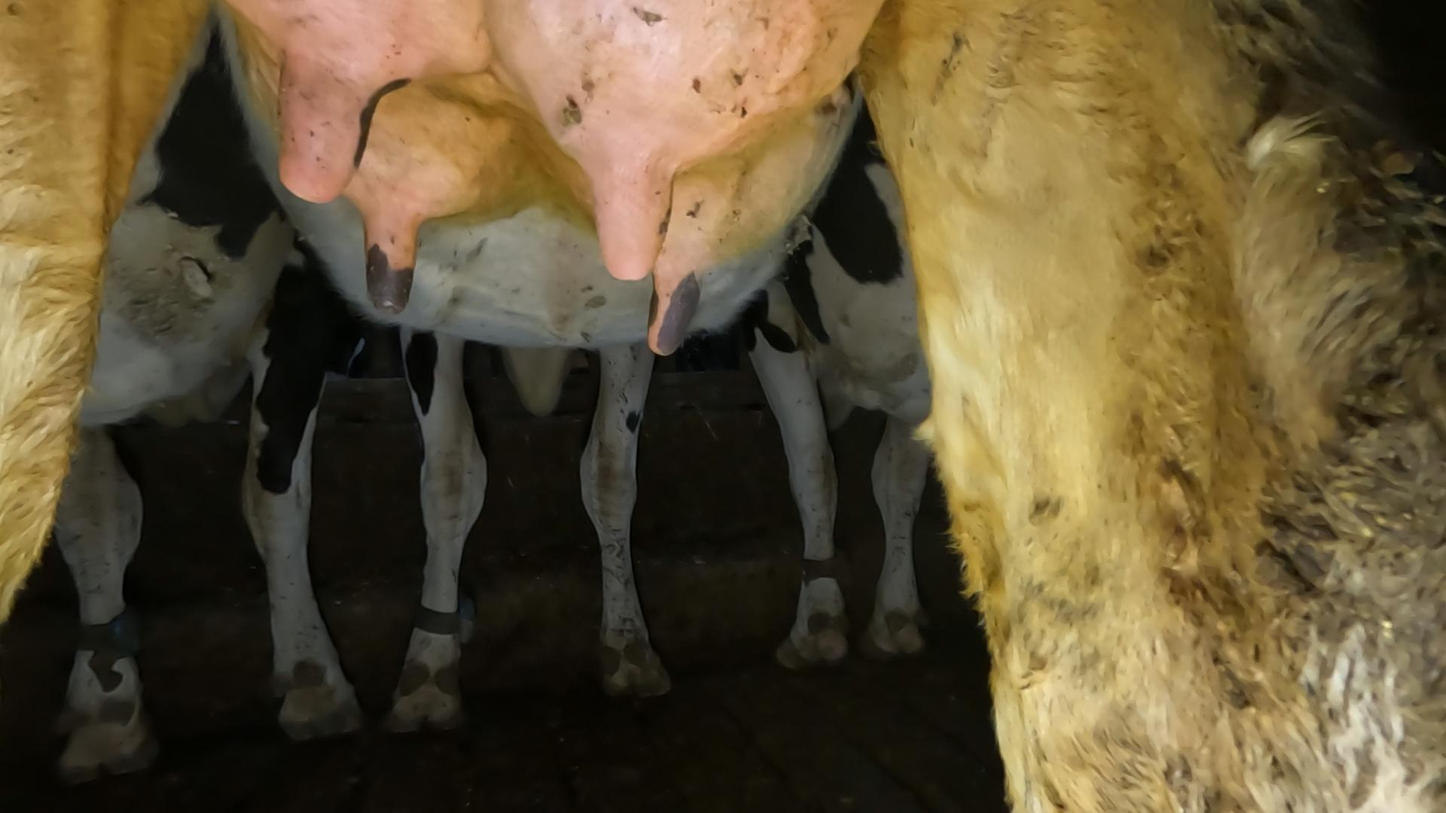Zitze: (268, 32, 381, 203), (574, 120, 687, 281), (625, 247, 728, 362), (358, 188, 433, 322)
